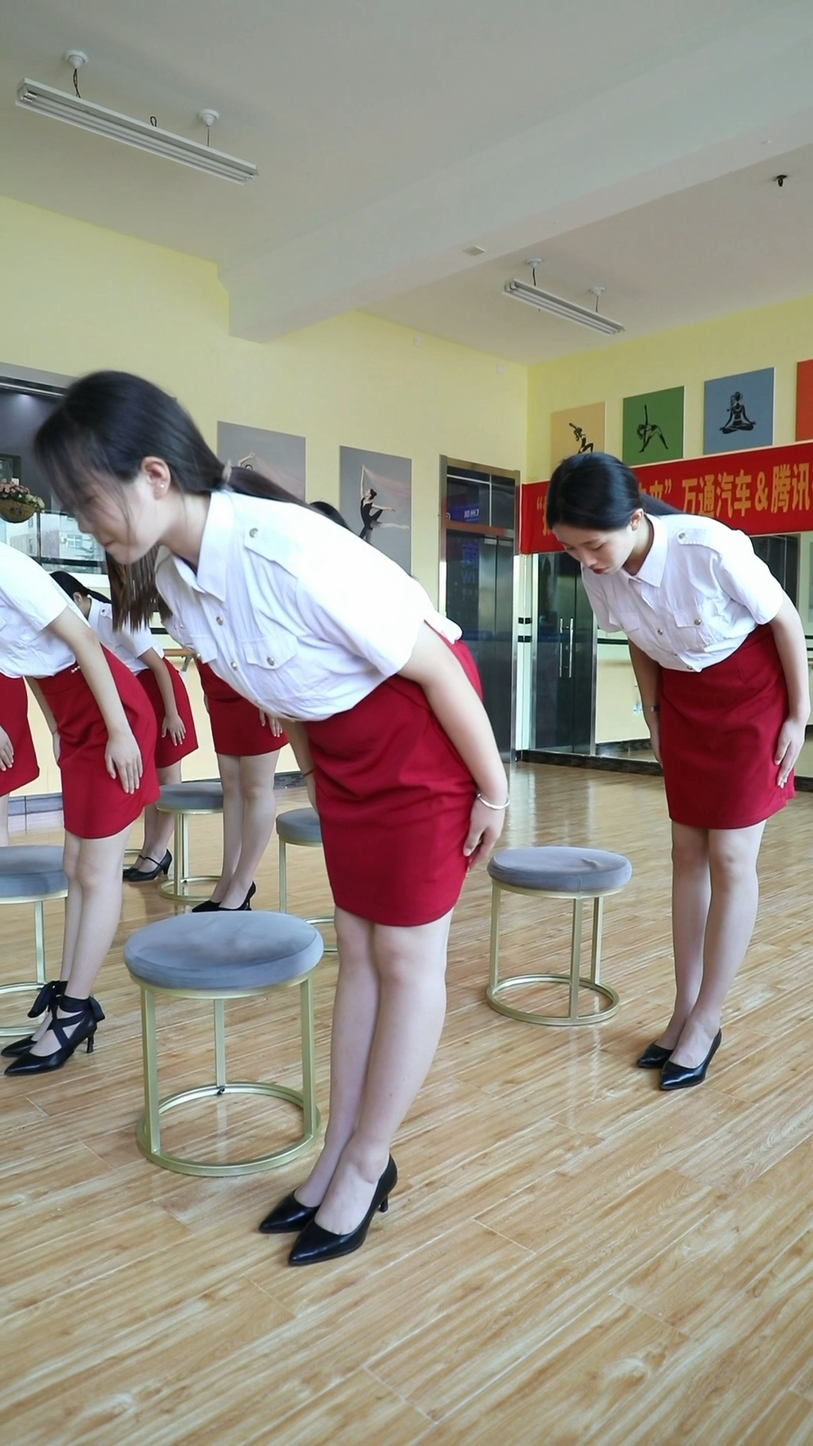bending: (35, 348, 503, 1304)
